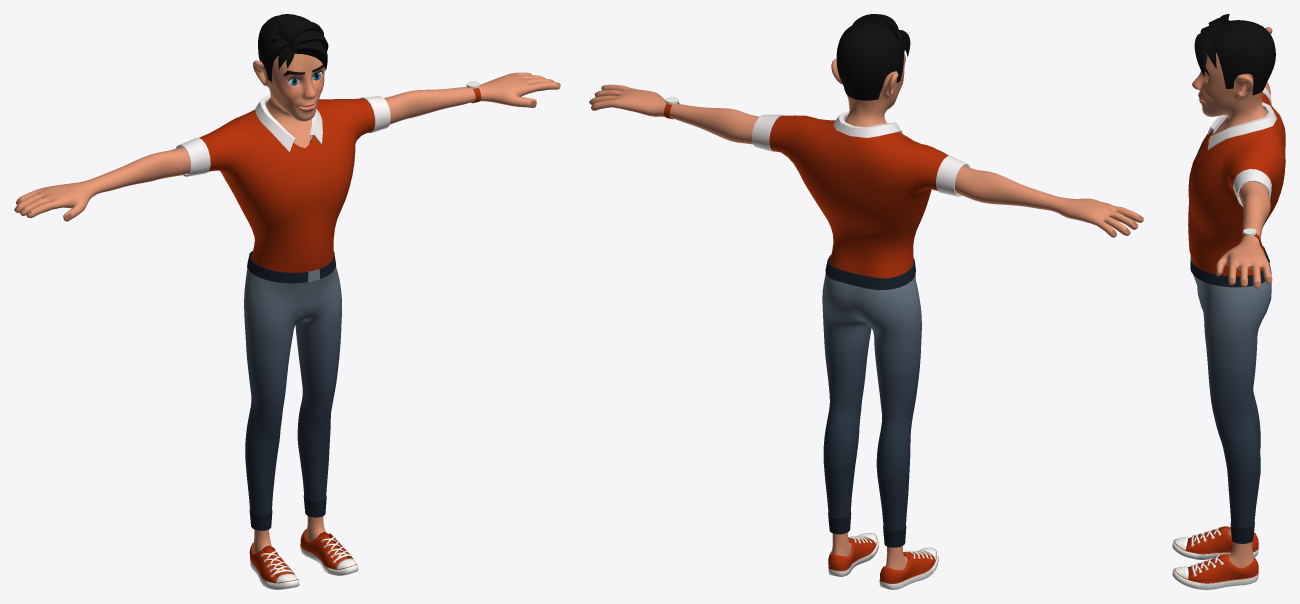
Rendered from Player.fbx.
The picture shows the model from 3 angles, left to right: view 1: azimuth 30°, elevation 25°; view 2: azimuth 150°, elevation 25°; view 3: azimuth 270°, elevation 25°; orthographic projection.
Parts seen in each view (by area): view 1: D_1, D_2, Body, Shoes, Hair; view 2: D_2, D_1, Body, Hair, Shoes; view 3: D_2, D_1, Body, Hair, Shoes.
Part boxes in pixels (x1=…): D_1: x1=175, y1=94, x2=390, y2=272; D_2: x1=244, y1=251, x2=341, y2=530; Body: x1=14, y1=53, x2=560, y2=553; Shoes: x1=249, y1=529, x2=358, y2=589; Hair: x1=258, y1=14, x2=328, y2=82; D_2: x1=822, y1=255, x2=921, y2=547; D_1: x1=752, y1=111, x2=970, y2=278; Body: x1=589, y1=51, x2=1143, y2=570; Hair: x1=836, y1=14, x2=910, y2=100; Shoes: x1=828, y1=533, x2=938, y2=589; D_2: x1=1190, y1=246, x2=1271, y2=543; D_1: x1=1188, y1=87, x2=1285, y2=276; Body: x1=1192, y1=27, x2=1272, y2=568; Hair: x1=1194, y1=14, x2=1275, y2=95; Shoes: x1=1172, y1=526, x2=1258, y2=589.
Size of the model in its own units: 200 by 196 by 36.67.
